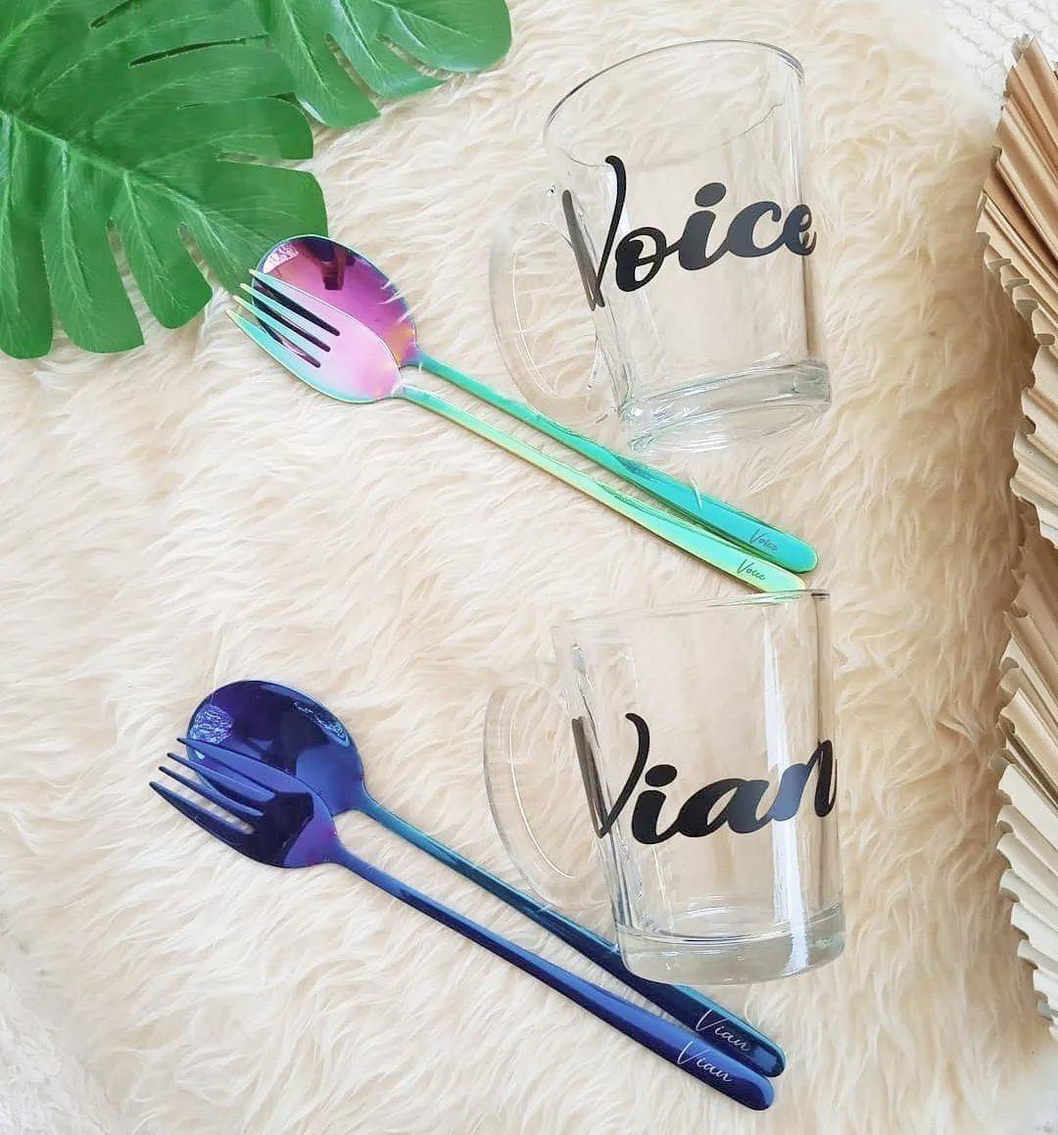glass-mug: (477, 24, 847, 489), (467, 572, 861, 991)
